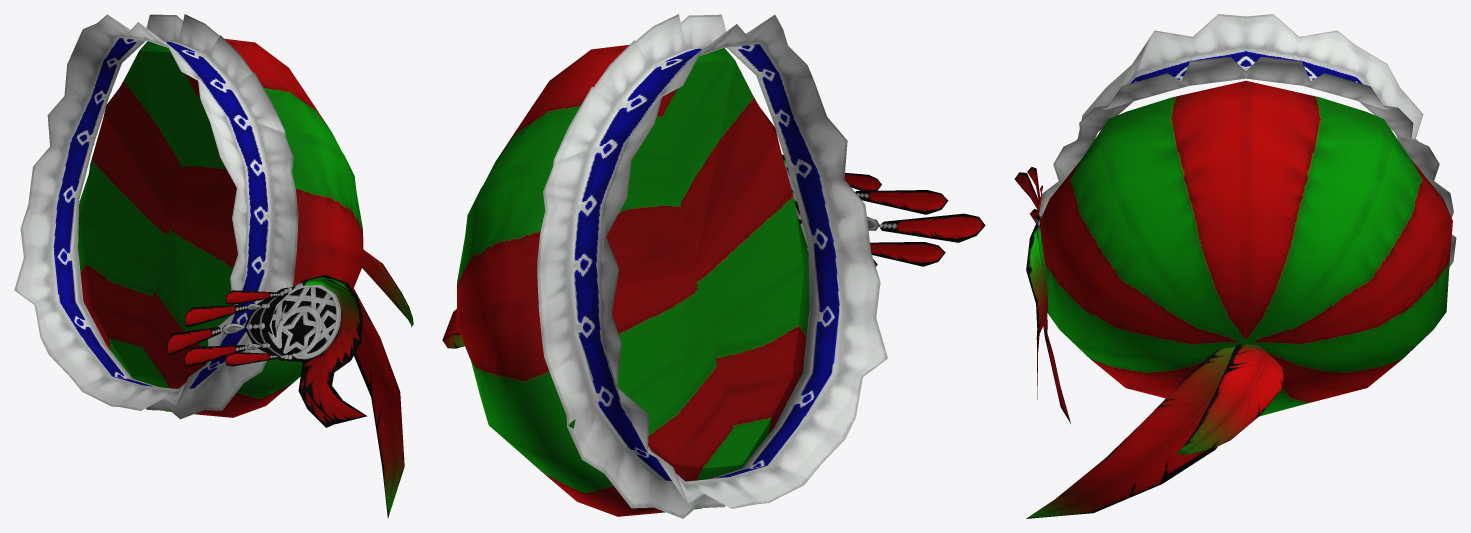
The picture shows the model from 3 angles, left to right: view 1: azimuth 30°, elevation 25°; view 2: azimuth 150°, elevation 25°; view 3: azimuth 270°, elevation 25°; orthographic projection. The views are drawn at different scales.
Parts seen in each view (by area): view 1: F1158; view 2: F1158; view 3: F1158.
Part boxes in pixels (<box>): F1158: <box>14,14,413,517</box>; F1158: <box>442,14,985,518</box>; F1158: <box>1014,14,1456,518</box>.
Bounding box in the file's own units: 0.5252 × 0.6684 × 0.6053.
